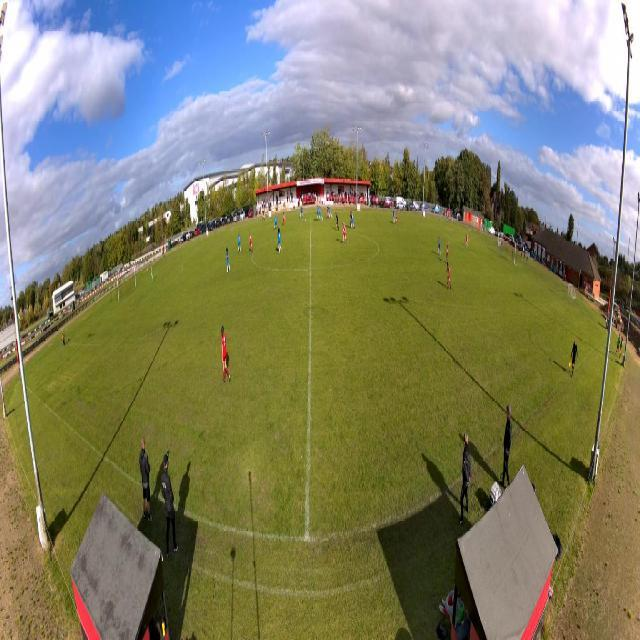ball: (304, 218, 306, 223)
player: (221, 325, 231, 385), (445, 261, 452, 290), (342, 221, 349, 245), (226, 247, 231, 275), (277, 227, 282, 254), (249, 233, 254, 254), (445, 239, 449, 265), (335, 211, 340, 230), (316, 205, 321, 222), (437, 235, 441, 256), (237, 233, 241, 254), (273, 216, 278, 231), (351, 211, 355, 229), (328, 205, 333, 219), (325, 205, 330, 219), (395, 210, 399, 227), (300, 204, 304, 220), (282, 212, 286, 227), (151, 264, 154, 283), (465, 232, 468, 249), (392, 208, 395, 225), (349, 211, 352, 228)
